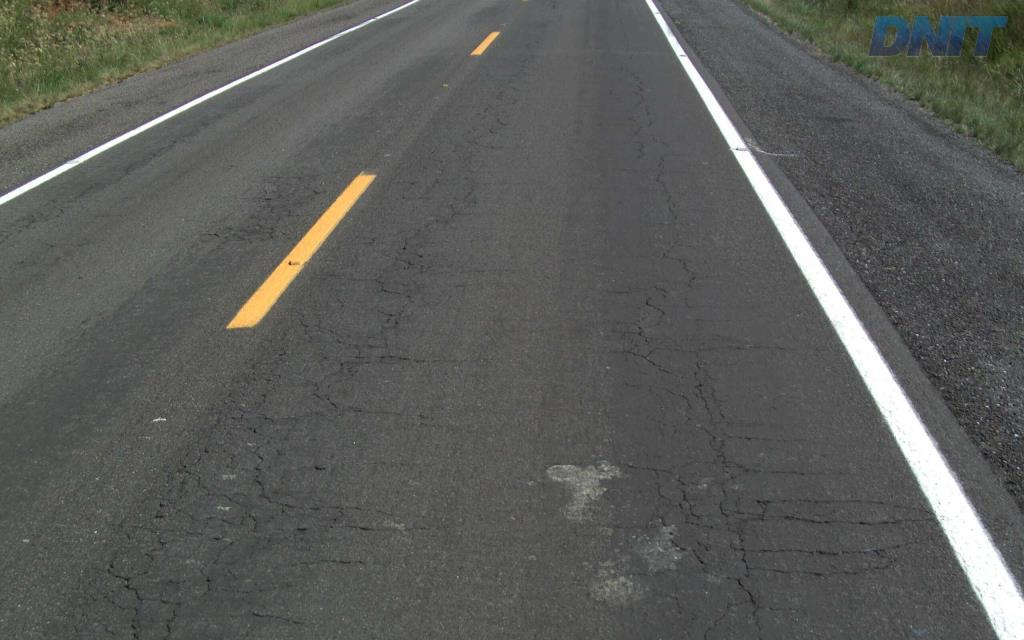crack: (724, 517, 765, 578), (726, 577, 764, 631)
